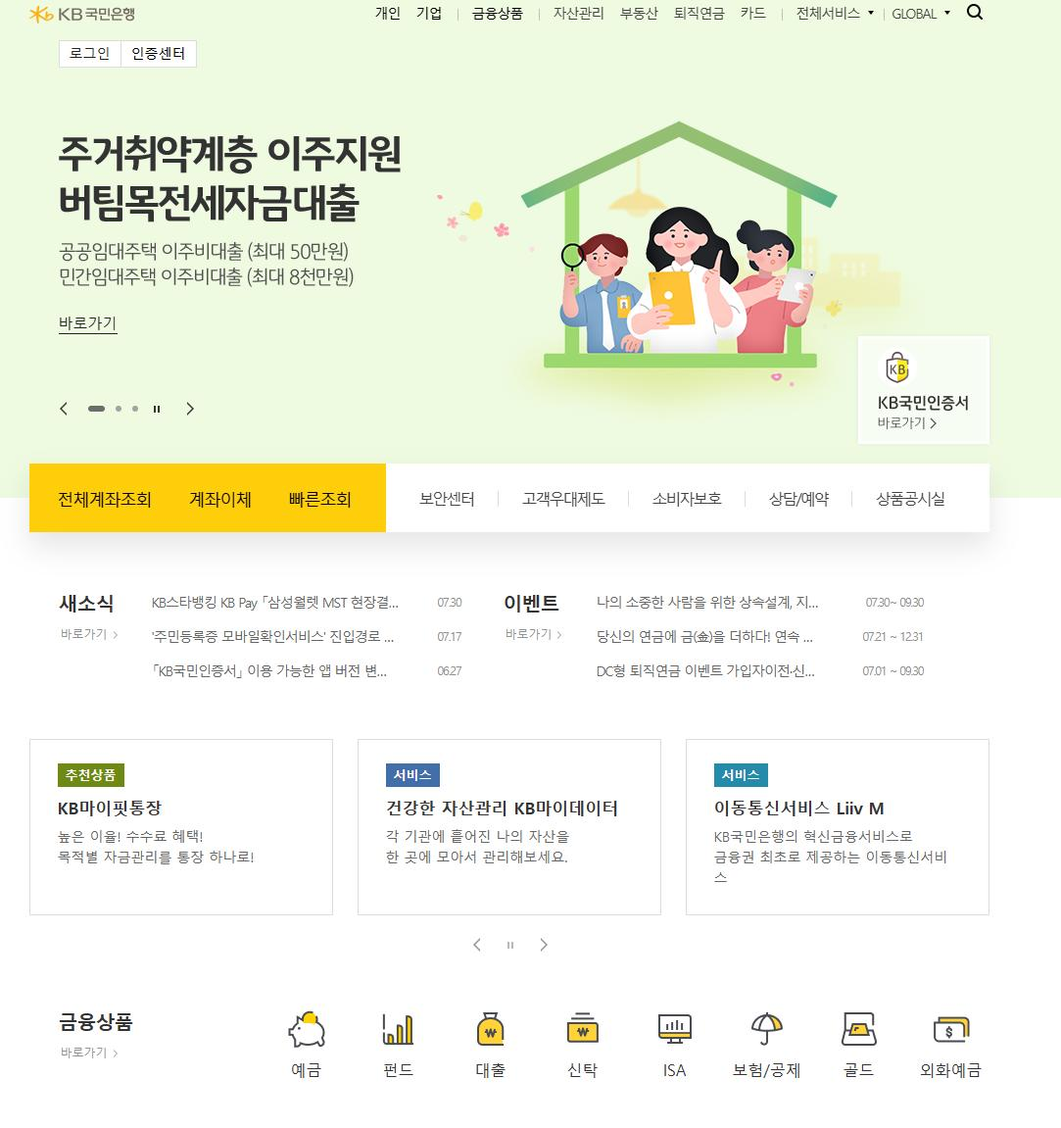button: (861, 327, 992, 442), (909, 995, 994, 1093), (278, 991, 339, 1102), (459, 1004, 536, 1091), (639, 1002, 714, 1091), (736, 1005, 806, 1093), (828, 1002, 892, 1090), (370, 1005, 429, 1088), (515, 472, 616, 520), (550, 1005, 611, 1084), (276, 472, 370, 519), (873, 476, 970, 519), (58, 481, 158, 519), (407, 478, 498, 517), (760, 478, 847, 514), (647, 478, 735, 513), (186, 477, 261, 516), (45, 309, 125, 340), (42, 1044, 133, 1071), (53, 615, 125, 649), (128, 37, 196, 69), (495, 619, 567, 649), (787, 0, 876, 23), (467, 0, 532, 28), (671, 0, 732, 28), (61, 42, 121, 69), (891, 0, 958, 23), (410, 0, 458, 32), (349, 0, 405, 26), (548, 2, 609, 24), (621, 0, 667, 24), (739, 0, 778, 28), (534, 925, 557, 958), (961, 0, 988, 27), (466, 931, 486, 957)
